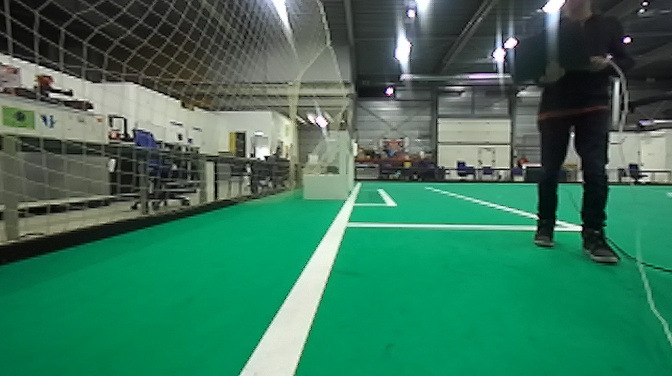goalpost: (335, 129, 345, 206)
human: (511, 1, 633, 269)
